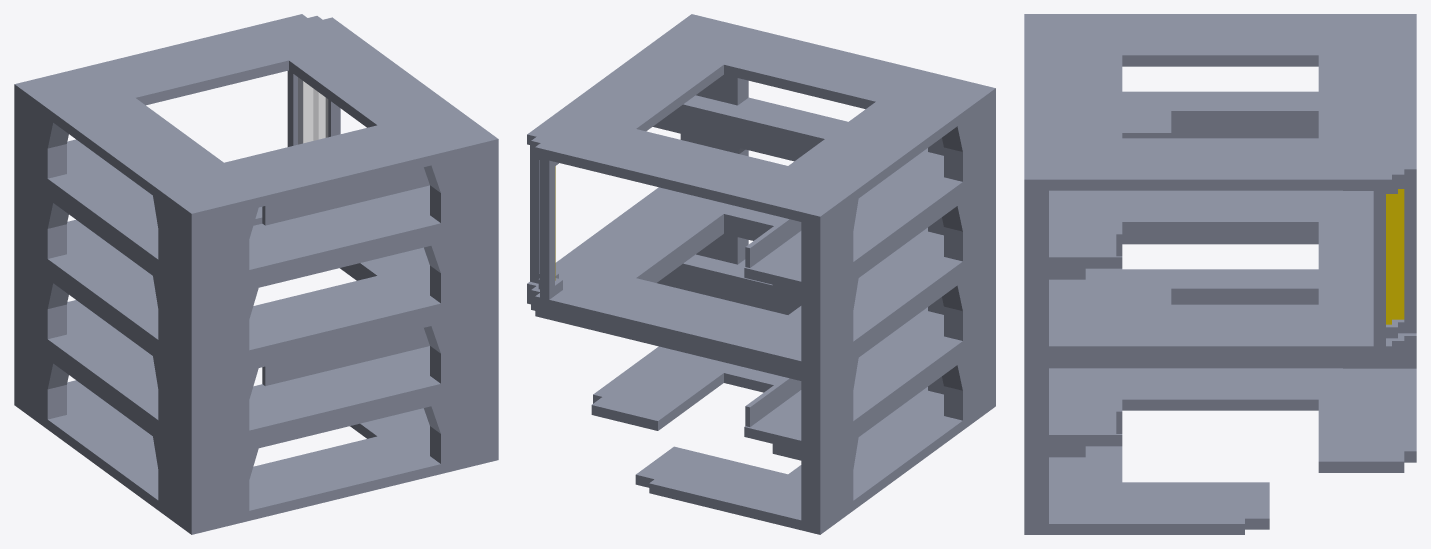
Rendered from bldg_0001_innercorner_v03.gltf.
The picture shows the model from 3 angles, left to right: view 1: azimuth 30°, elevation 25°; view 2: azimuth 150°, elevation 25°; view 3: azimuth 270°, elevation 25°; orthographic projection. The views are drawn at different scales.
Parts seen in each view (by area): view 1: massing, portal 2, frame, window; view 2: massing, frame, portal 2, portal; view 3: massing, portal, frame, window, portal 2.
Boxes of the visible parts, x1,y1,x2,y2 form: massing: (14,14,498,534); portal 2: (136,60,376,127); frame: (287,70,340,146); window: (298,77,328,144); massing: (527,14,995,534); frame: (530,145,562,299); portal 2: (636,65,875,131); portal: (636,214,773,282); massing: (1024,14,1416,534); portal: (1122,222,1318,244); frame: (1373,180,1416,346); window: (1386,189,1404,324); portal 2: (1122,55,1318,66).
Size of what is drawn, in the model's own units: 16 by 16 by 16.
